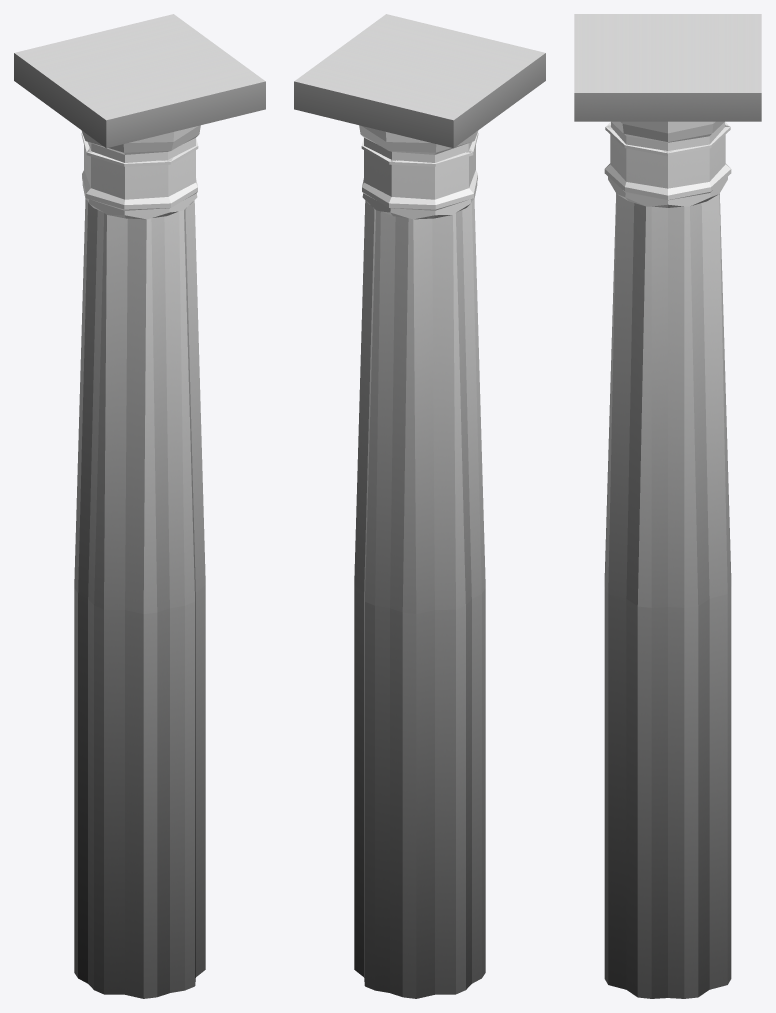
File: Pilar.1.fbx
3 renders of one model, left to right at view 1: azimuth 30°, elevation 25°; view 2: azimuth 150°, elevation 25°; view 3: azimuth 270°, elevation 25°, orthographic.
Visible parts, largest first — view 1: Pilar.1; view 2: Pilar.1; view 3: Pilar.1.
Part boxes in pixels (left/top/right/bottom): Pilar.1: left=14, top=14, right=265, bottom=998; Pilar.1: left=294, top=14, right=545, bottom=998; Pilar.1: left=574, top=14, right=761, bottom=998.
Bounding box in the file's own units: 0.5865 × 3.18 × 0.5865.
